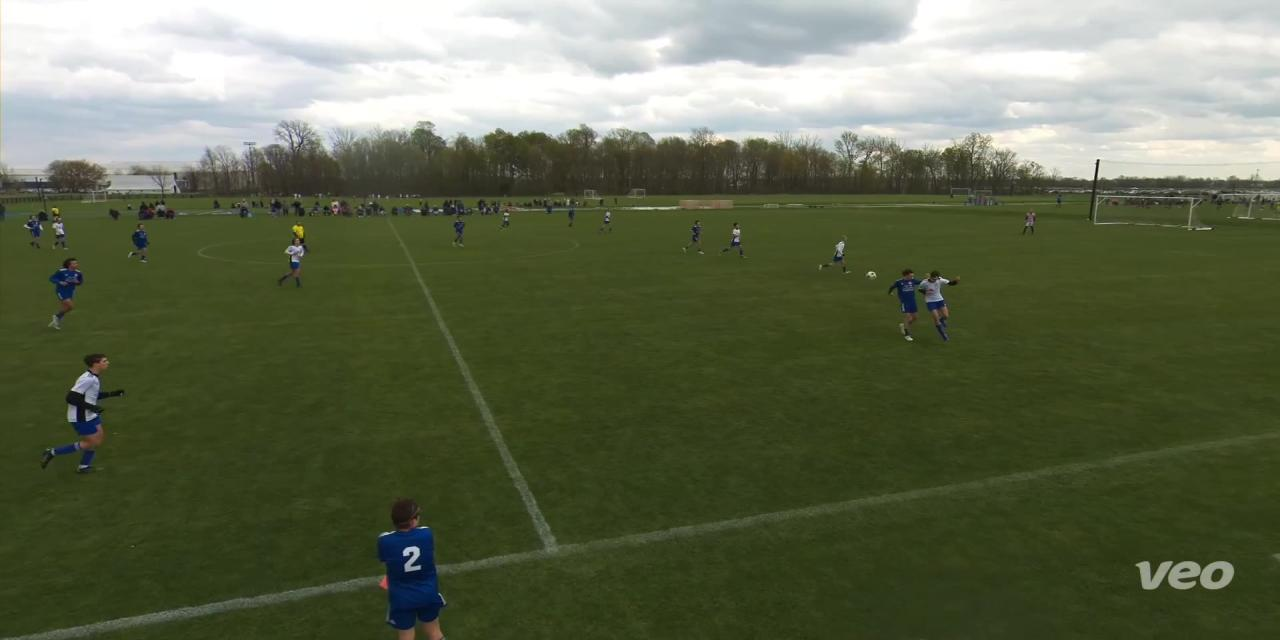goal: (1089, 192, 1217, 234)
sports ball: (861, 265, 880, 287)
